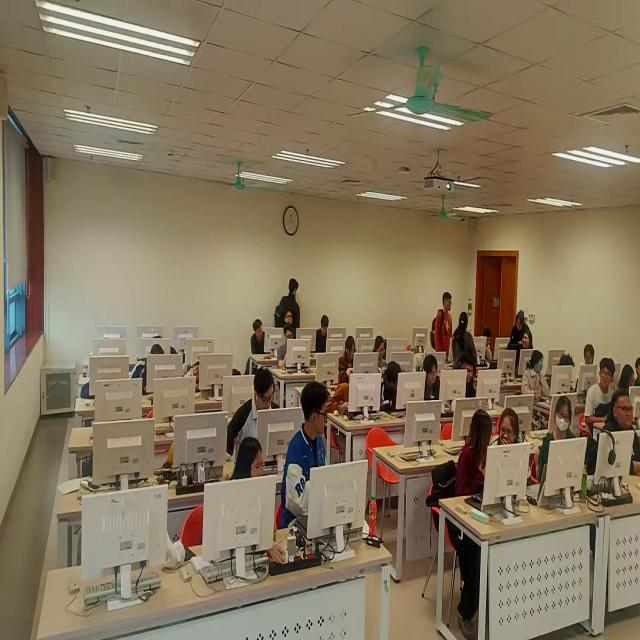raise_head: (594, 395, 640, 469), (587, 361, 620, 407), (421, 354, 446, 412), (581, 344, 601, 387), (515, 314, 533, 354), (283, 309, 296, 329)
sleep: (166, 413, 223, 488), (82, 433, 127, 486), (179, 353, 212, 404), (83, 368, 111, 411)
stand: (448, 309, 476, 392), (276, 277, 303, 354), (432, 288, 455, 372)
using_computer: (235, 368, 286, 451), (545, 396, 585, 493), (133, 347, 171, 402), (525, 352, 559, 408), (278, 327, 310, 377), (454, 358, 487, 406), (339, 336, 366, 388), (366, 333, 397, 376), (249, 321, 281, 360), (618, 360, 640, 412), (481, 328, 501, 373)
